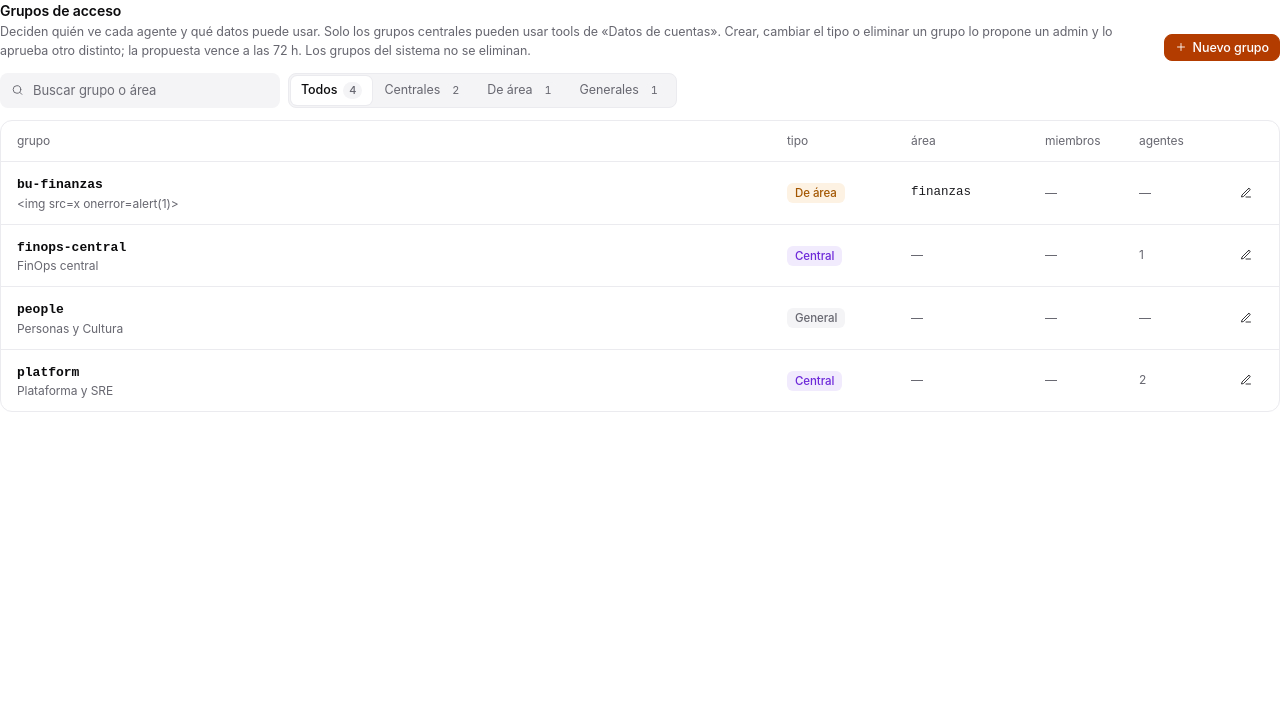
Test: GroupsTab (design groups-admin.jsx) › links to Áreas y OUs when the area is missing
The width and height of the screenshot is (1280, 720).
What coordinates should you click on to do the following:
click the button "Nuevo grupo"
I would click on:
 (1222, 47)
Its box is [1164,34,1279,60].
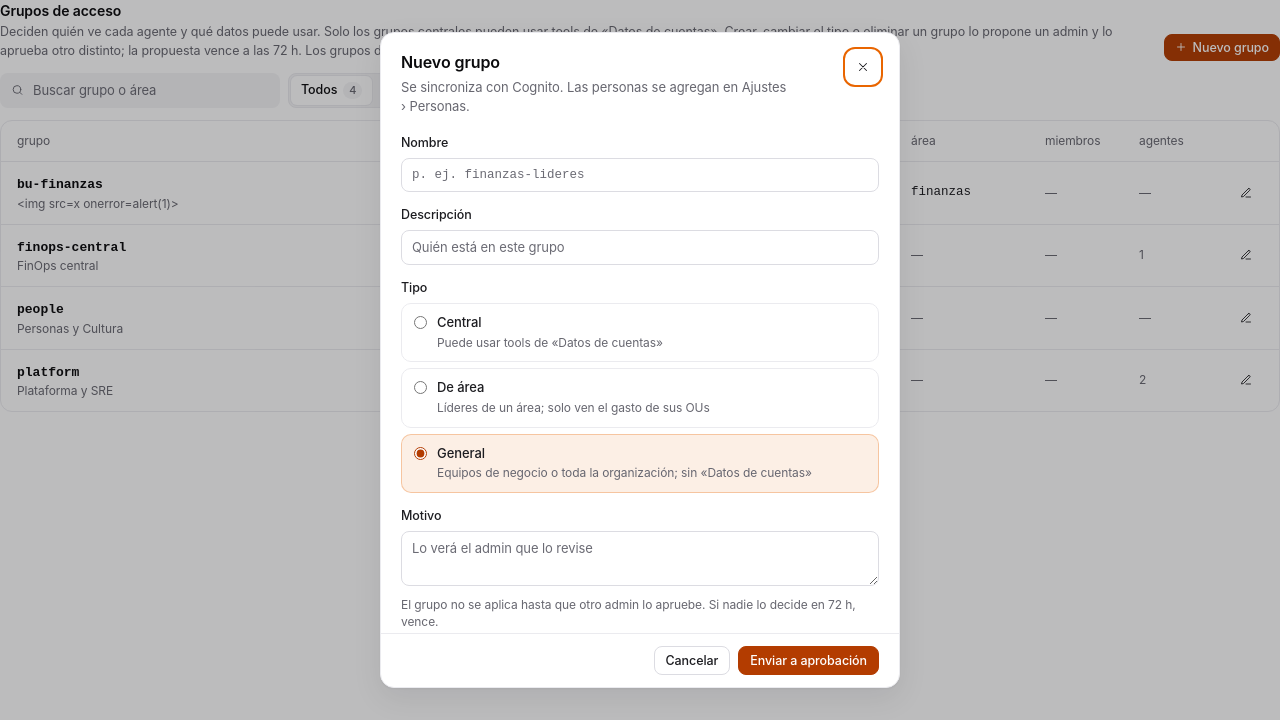
What coordinates should you click on to do the following:
click the radio button labelled "De área Líderes de un área; solo ven el gasto de sus OUs"
I would click on:
 (420, 388)
Its box is [414,381,427,394].
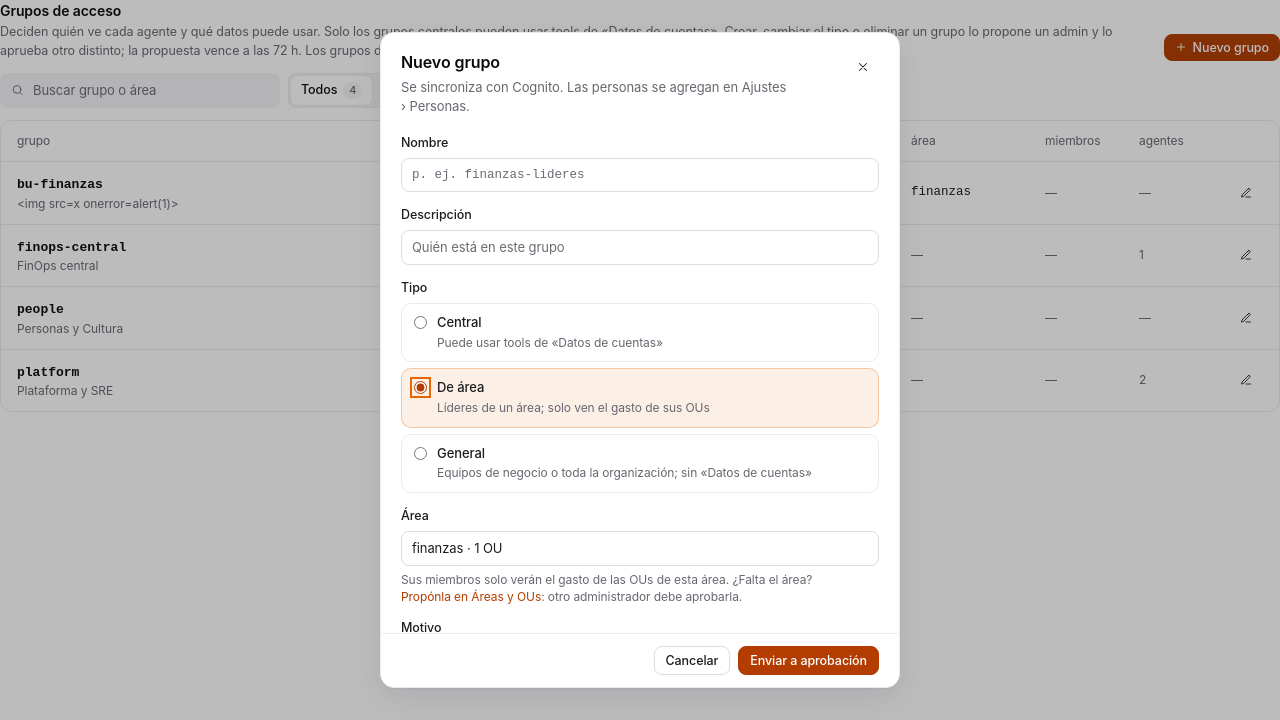
What coordinates should you click on to do the following:
click the button "Propónla en Áreas y OUs"
I would click on:
 (471, 597)
Its box is [401,588,541,605].
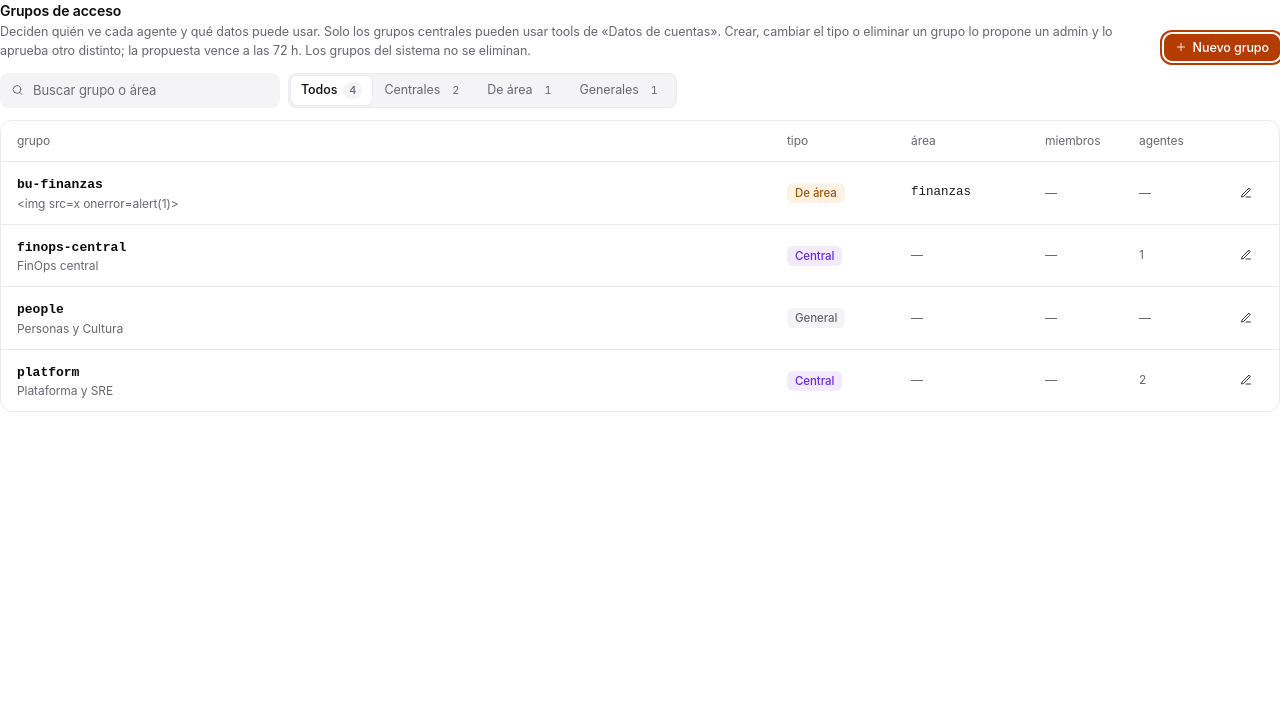
Check: the dialog is gone
